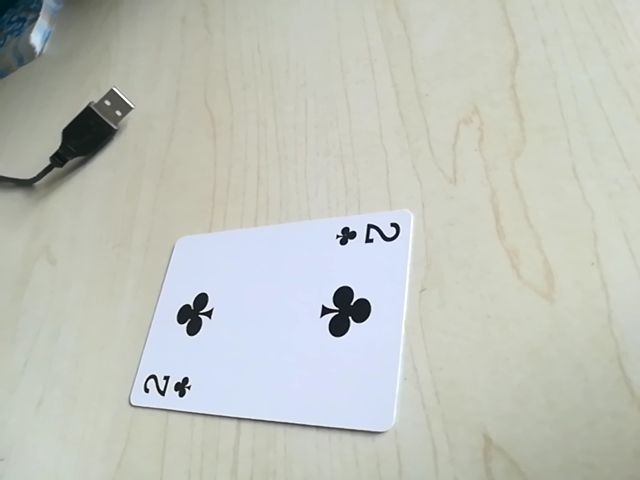mh 2: (332, 215, 405, 253), (132, 369, 198, 406)
